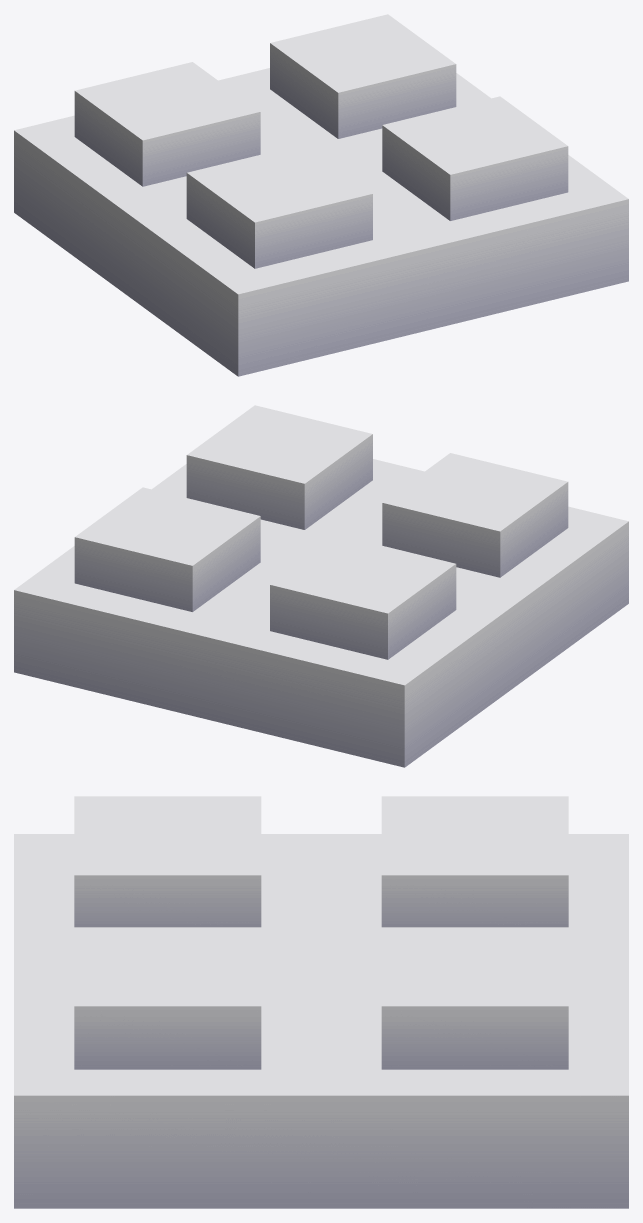
File: brick-kit--square-lq-plate-2x2.glb
3 renders of one model, top to bottom at view 1: azimuth 30°, elevation 25°; view 2: azimuth 150°, elevation 25°; view 3: azimuth 270°, elevation 25°, orthographic. The views are drawn at different scales.
Parts seen in each view (by area): view 1: square-lq-plate-2x2; view 2: square-lq-plate-2x2; view 3: square-lq-plate-2x2.
Boxes of the visible parts, left/top/right/bottom form: square-lq-plate-2x2: left=14, top=14, right=628, bottom=376; square-lq-plate-2x2: left=14, top=405, right=628, bottom=767; square-lq-plate-2x2: left=14, top=796, right=628, bottom=1208.
Size of the model in its own units: 0.159 by 0.05 by 0.158.
Materials: 1 (1 with a texture image).
